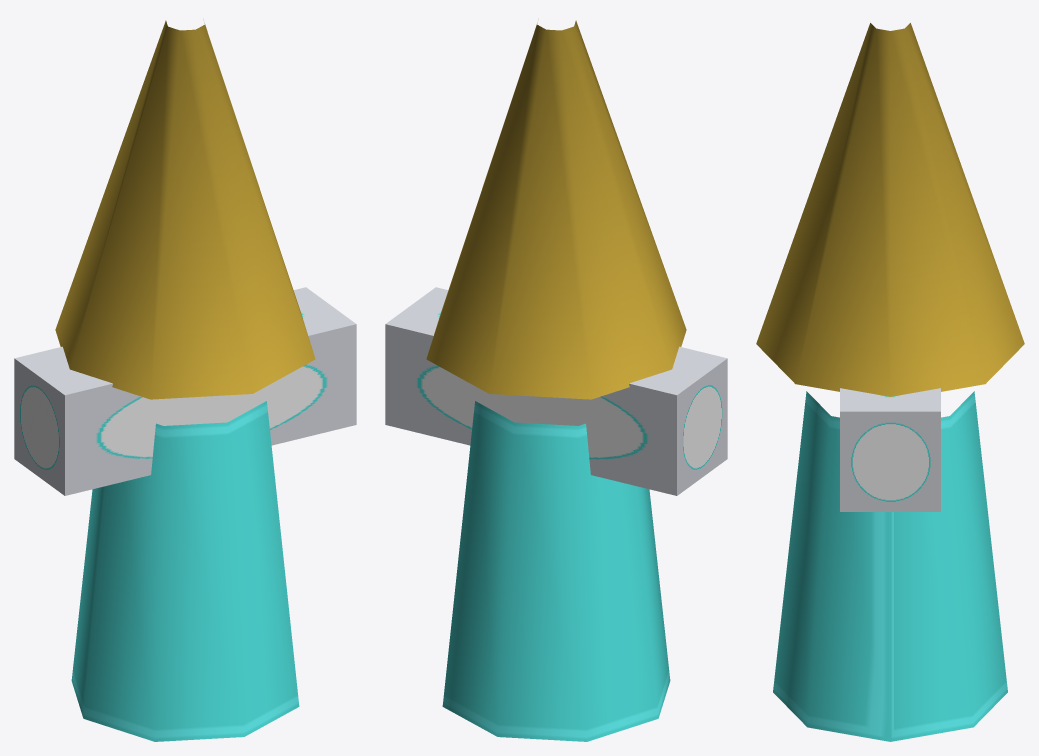
File: ITEM_CELESTIAL_KEY.glb
3 views of the same model, side by side, from view 1: azimuth 30°, elevation 25°; view 2: azimuth 150°, elevation 25°; view 3: azimuth 270°, elevation 25° (orthographic).
Visible parts, largest first — view 1: ITEM_CELESTIAL_KEY; view 2: ITEM_CELESTIAL_KEY; view 3: ITEM_CELESTIAL_KEY.
Boxes of the visible parts, box(x1,y1,x2,y2) form: ITEM_CELESTIAL_KEY: box(14, 20, 356, 741); ITEM_CELESTIAL_KEY: box(385, 20, 727, 741); ITEM_CELESTIAL_KEY: box(756, 23, 1024, 741).
Bounding box in the file's own units: 0.2 × 0.44 × 0.16.
1 material, 1 textured.
